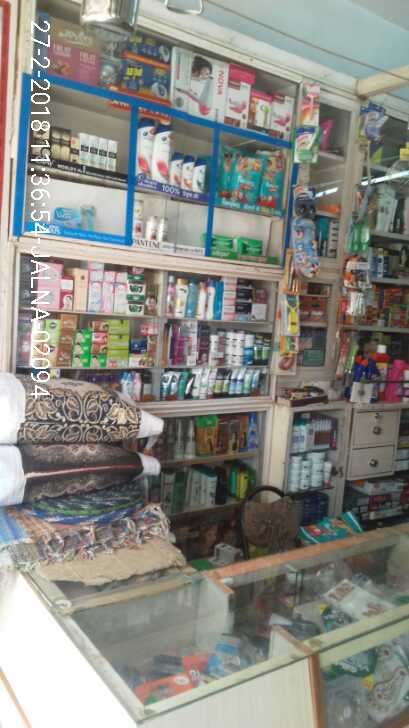venus: (56, 209, 79, 227), (81, 206, 97, 228)
